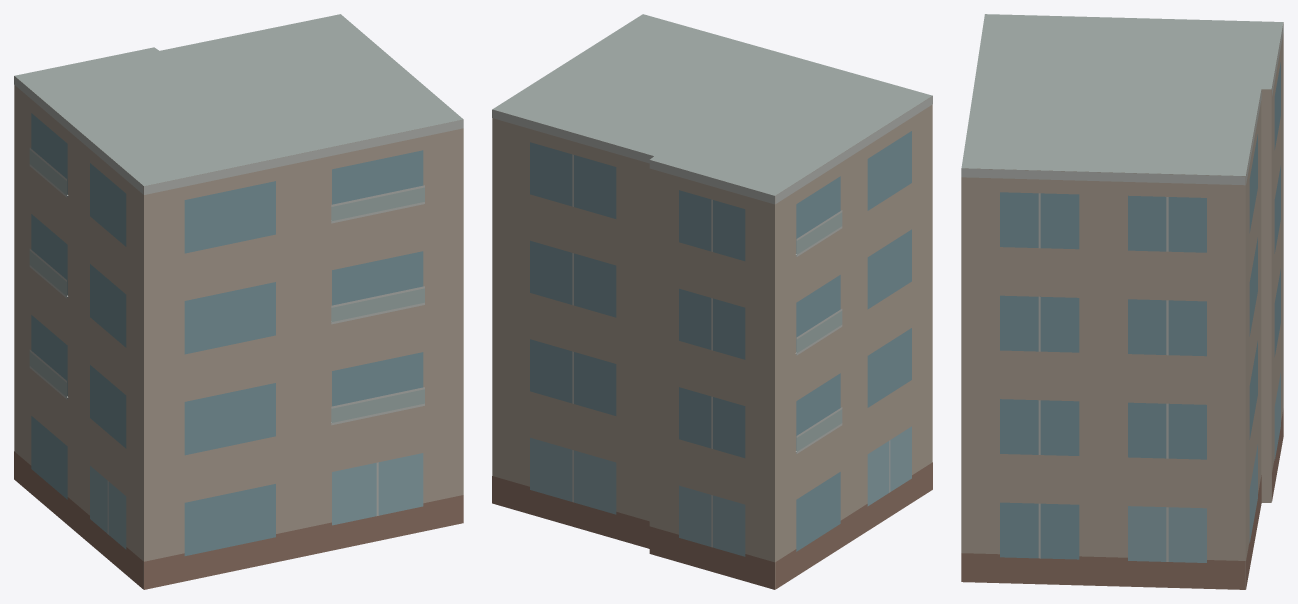
The model's file is survey-upis-32886117.glb.
3 views of the same model, side by side, from view 1: azimuth 30°, elevation 25°; view 2: azimuth 150°, elevation 25°; view 3: azimuth 270°, elevation 25° (orthographic). The views are drawn at different scales.
Parts seen in each view (by area): view 1: survey-upis-32886117.tmp; view 2: survey-upis-32886117.tmp; view 3: survey-upis-32886117.tmp.
Boxes of the visible parts, x1=… form: survey-upis-32886117.tmp: x1=14, y1=14, x2=463, y2=589; survey-upis-32886117.tmp: x1=492, y1=14, x2=932, y2=589; survey-upis-32886117.tmp: x1=961, y1=14, x2=1283, y2=589.
Size of the model in its own units: 9.34 by 11.1 by 7.84.
